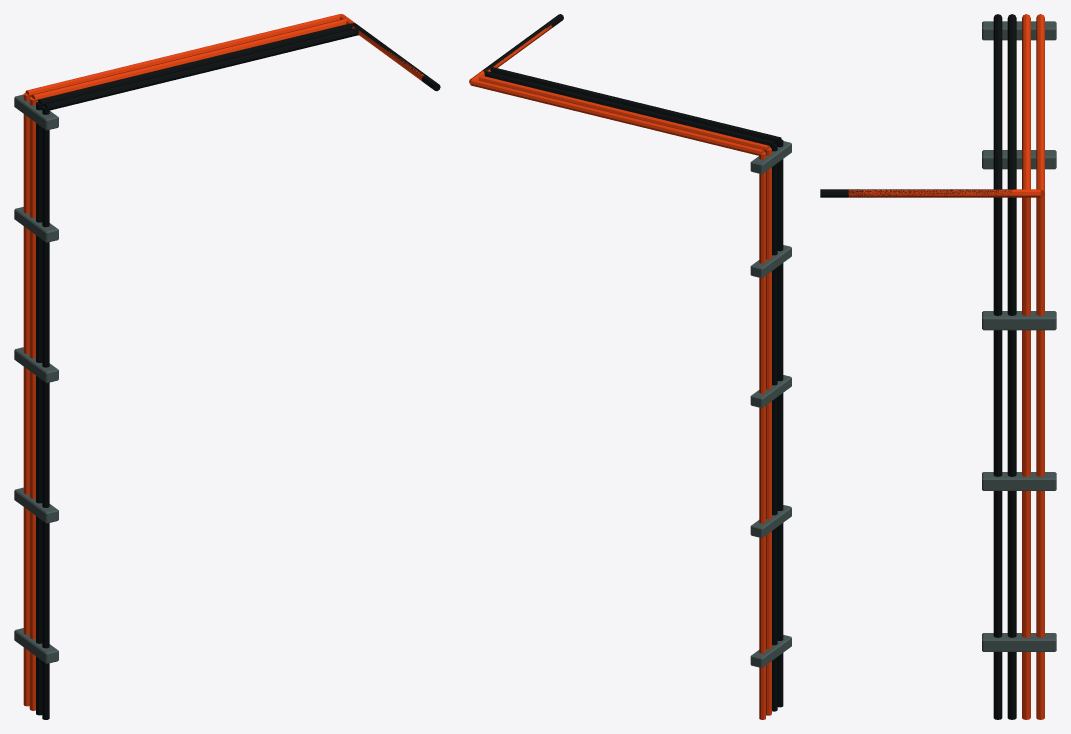
The model's file is SM_MP_Station_LiftFeed.fbx.
The picture shows the model from 3 angles, left to right: view 1: azimuth 30°, elevation 25°; view 2: azimuth 150°, elevation 25°; view 3: azimuth 270°, elevation 25°; orthographic projection. The views are drawn at different scales.
Visible parts, largest first — view 1: SM_MP_Station_LiftFeed; view 2: SM_MP_Station_LiftFeed; view 3: SM_MP_Station_LiftFeed.
Part boxes in pixels (x1,y1,x2,y2): SM_MP_Station_LiftFeed: (14,14,440,719); SM_MP_Station_LiftFeed: (469,14,791,719); SM_MP_Station_LiftFeed: (820,14,1056,719).
Size of the model in its own units: 241 by 133 by 438.
Materials: 1 (1 with a texture image).
